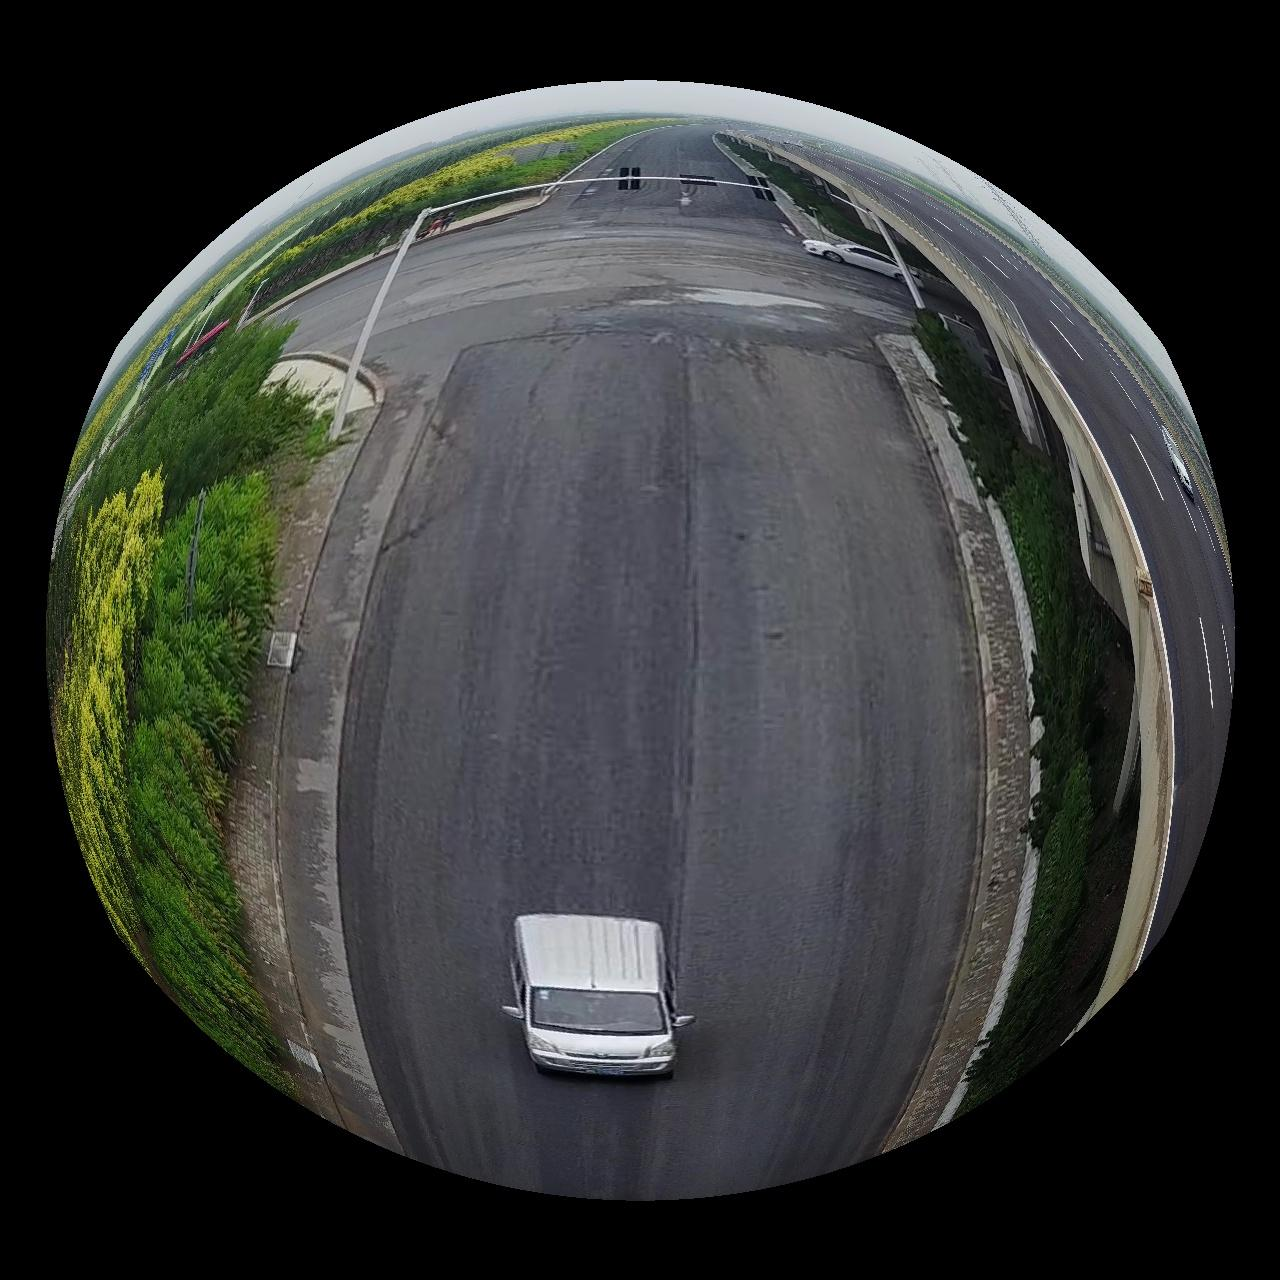cars: (502, 917, 695, 1078), (803, 238, 905, 279)
trees: (49, 319, 322, 1089), (926, 339, 1143, 1111), (193, 115, 673, 320), (719, 132, 888, 252)
